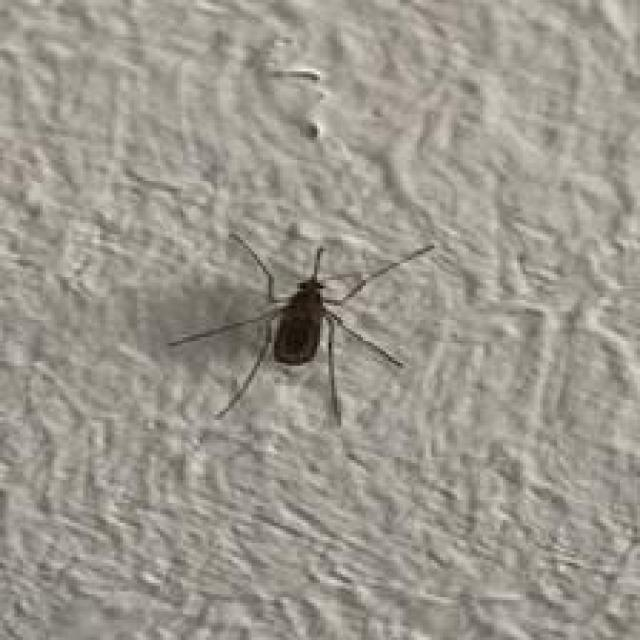Culex: (167, 230, 436, 427)
